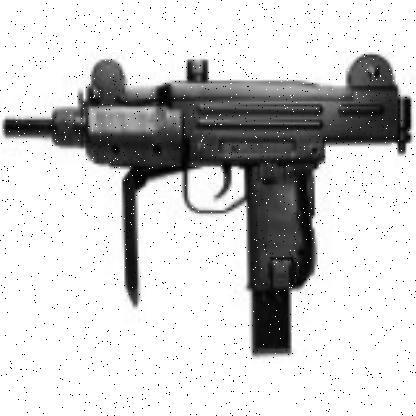gun: (2, 55, 410, 309)
